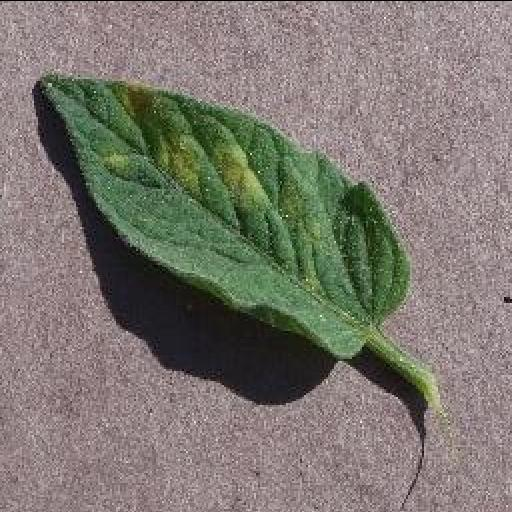disease_tomato: (34, 72, 412, 360)
